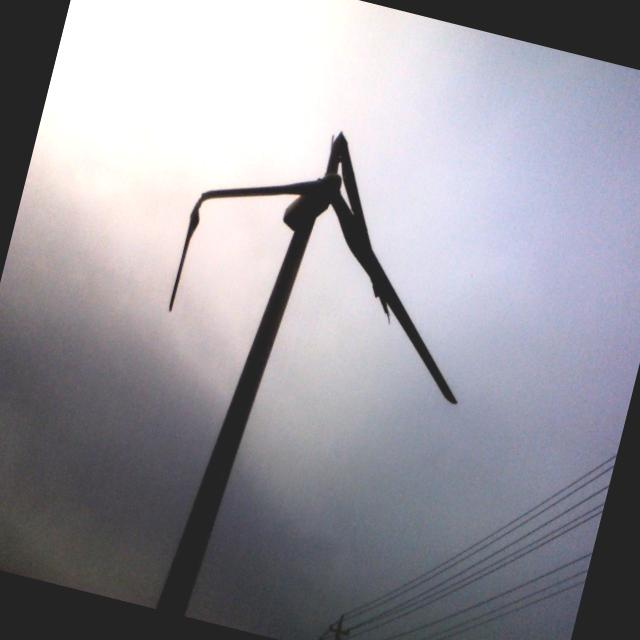crack: (282, 117, 436, 324), (154, 174, 227, 322)
